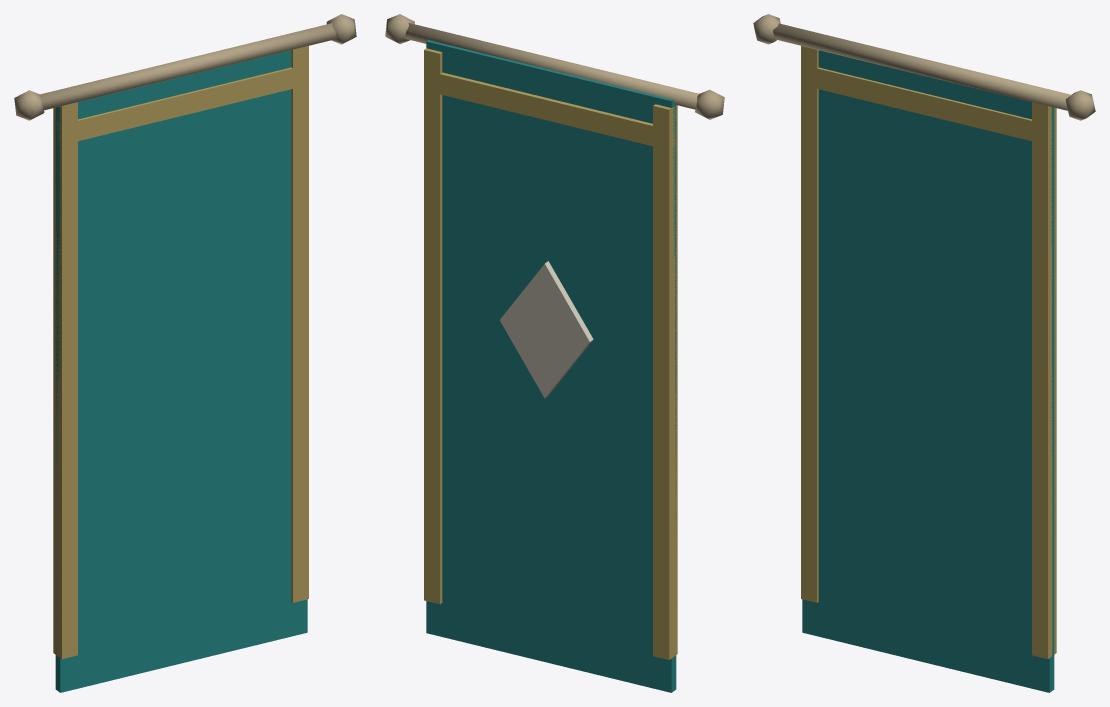
File: cyan_beetle_banner_v0.glb
3 renders of one model, left to right at view 1: azimuth 30°, elevation 25°; view 2: azimuth 150°, elevation 25°; view 3: azimuth 330°, elevation 25°, orthographic.
Parts seen in each view (by area): view 1: cyan_beetle_banner_v0; view 2: cyan_beetle_banner_v0; view 3: cyan_beetle_banner_v0.
Boxes of the visible parts, x1,y1,x2,y2 form: cyan_beetle_banner_v0: [14, 14, 356, 692]; cyan_beetle_banner_v0: [385, 14, 724, 692]; cyan_beetle_banner_v0: [753, 14, 1095, 692].
Size of the model in its own units: 1.04 by 1.8 by 0.0933.
